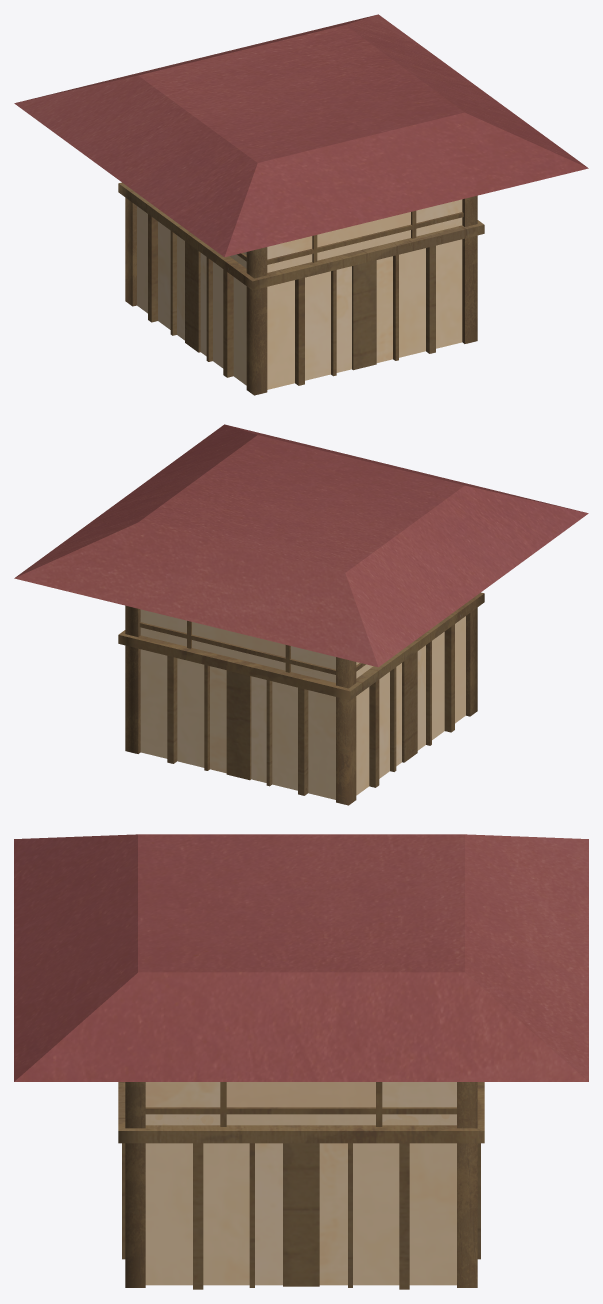
The model's file is EXPORT_MAP_SPIRIT_SHRINE(1).FBX.
3 renders of one model, top to bottom at view 1: azimuth 30°, elevation 25°; view 2: azimuth 150°, elevation 25°; view 3: azimuth 270°, elevation 25°, orthographic. The views are drawn at different scales.
Visible parts, largest first — view 1: Box001; view 2: Box001; view 3: Box001.
Boxes of the visible parts, x1,y1,x2,y2 form: Box001: (14, 14, 588, 395); Box001: (14, 424, 588, 805); Box001: (14, 834, 588, 1289).
Bounding box in the file's own units: 33.36 × 19.86 × 33.36.
Materials: 1 (1 with a texture image).
